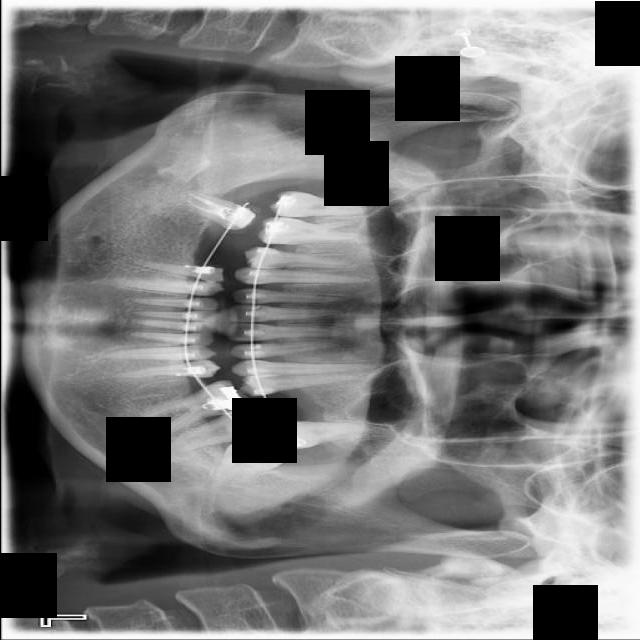52: (223, 198, 261, 240)
73: (175, 186, 239, 230), (116, 582, 120, 588)
BioHorizons Implant: (274, 421, 394, 450)
Biomet 3i Implant: (208, 436, 287, 497)
Blue Sky Bio Implant: (156, 405, 267, 457)
Caries: (269, 191, 382, 218)
Implant: (175, 188, 260, 238)
